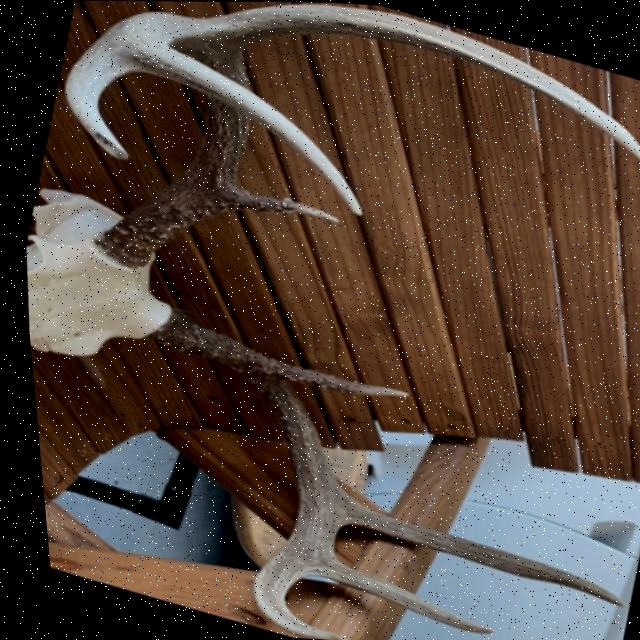L-F: (138, 307, 339, 640)
L-G1: (263, 358, 403, 395)
L-G2: (332, 496, 615, 606)
L-G3: (307, 558, 484, 633)
R-G1: (222, 185, 337, 223)
R-G2: (198, 3, 640, 160)
R-G3: (134, 45, 360, 216)
